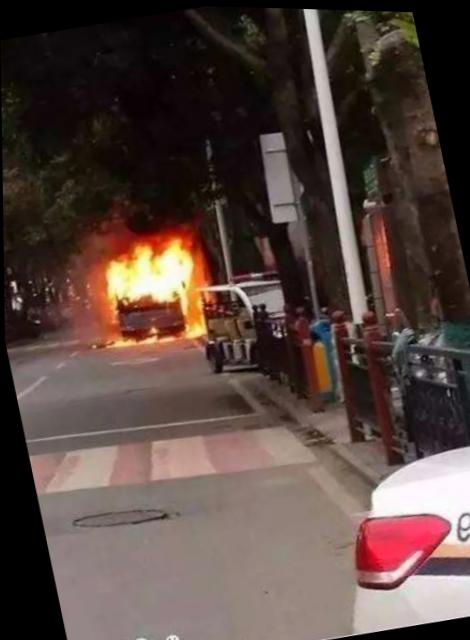fire: (85, 218, 210, 351)
